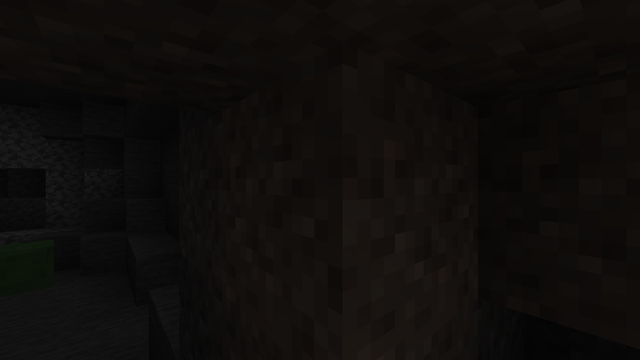slimes: (1, 237, 57, 296)
